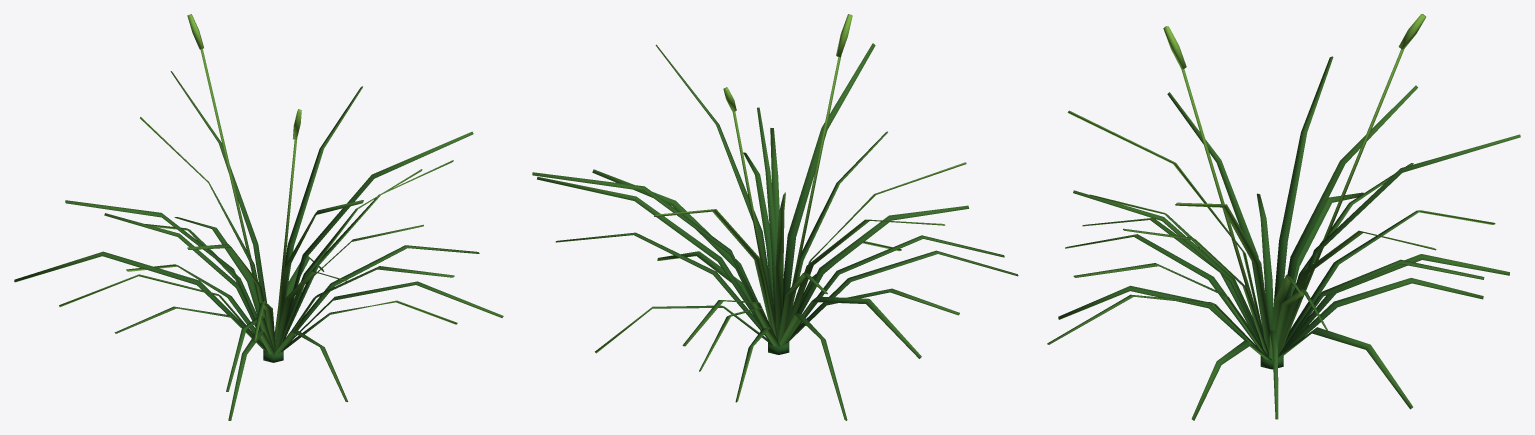
Rendered from grassclump.lod1.glb.
3 renders of one model, left to right at view 1: azimuth 30°, elevation 25°; view 2: azimuth 150°, elevation 25°; view 3: azimuth 270°, elevation 25°, orthographic. The views are drawn at different scales.
Visible parts, largest first — view 1: grassclump_s1_lod1; view 2: grassclump_s1_lod1; view 3: grassclump_s1_lod1.
Part boxes in pixels (bbox=[...]): grassclump_s1_lod1: bbox=[14, 14, 503, 420]; grassclump_s1_lod1: bbox=[532, 14, 1018, 420]; grassclump_s1_lod1: bbox=[1047, 14, 1520, 420].
Bounding box in the file's own units: 1.48 × 1.1 × 1.37.
